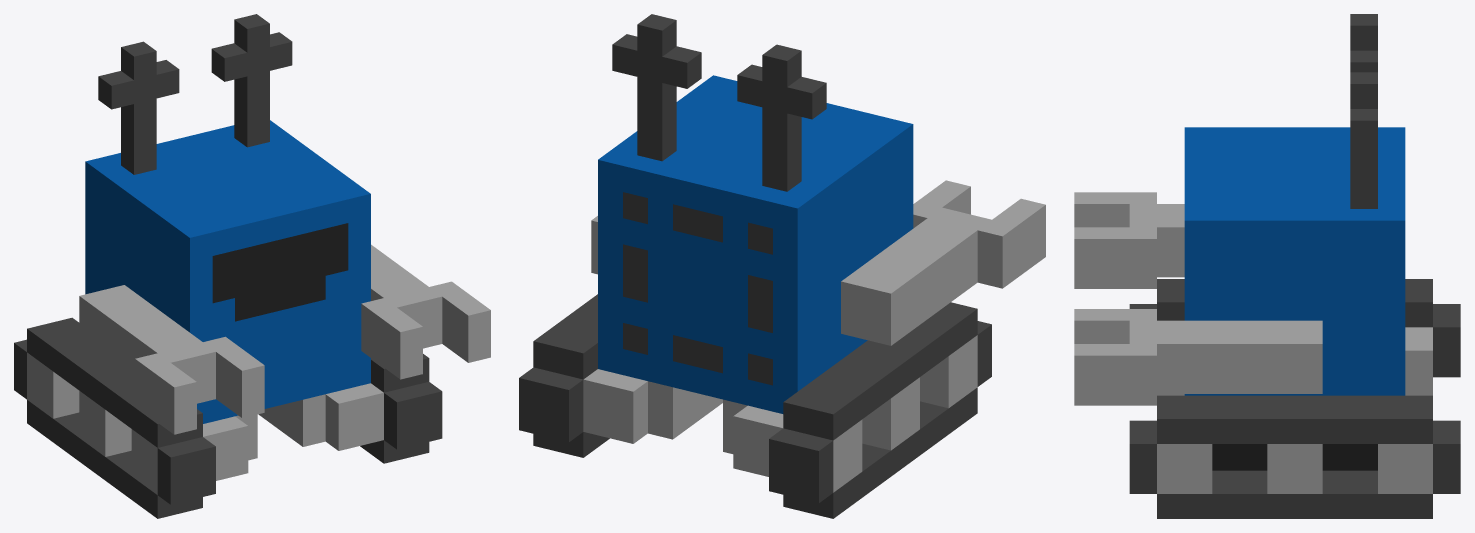
The model's file is Blue-0.obj.
3 views of the same model, side by side, from view 1: azimuth 30°, elevation 25°; view 2: azimuth 150°, elevation 25°; view 3: azimuth 270°, elevation 25° (orthographic). The views are drawn at different scales.
Parts seen in each view (by area): view 1: Blue-0; view 2: Blue-0; view 3: Blue-0.
Boxes of the visible parts, box(x1,y1,x2,y2) form: Blue-0: box(14, 14, 490, 518); Blue-0: box(519, 14, 1045, 518); Blue-0: box(1074, 14, 1460, 518).
Size of the model in its own units: 14 by 16 by 14.
1 material, 1 textured.
